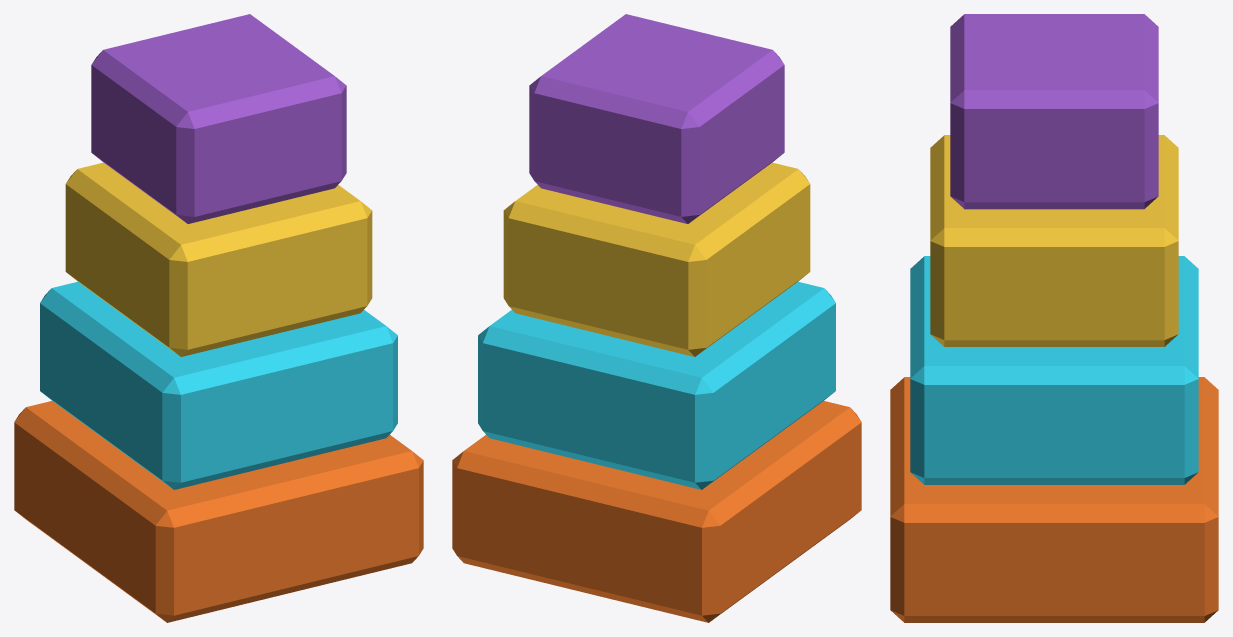
The model's file is toy_tower.glb.
3 views of the same model, side by side, from view 1: azimuth 30°, elevation 25°; view 2: azimuth 150°, elevation 25°; view 3: azimuth 270°, elevation 25° (orthographic). The views are drawn at different scales.
Visible parts, largest first — view 1: toy_tower; view 2: toy_tower; view 3: toy_tower.
Boxes of the visible parts, <box> form: toy_tower: <box>14,14,423,622</box>; toy_tower: <box>452,14,861,622</box>; toy_tower: <box>890,14,1218,622</box>.
Bounding box in the file's own units: 1.15 × 1.96 × 1.15.
